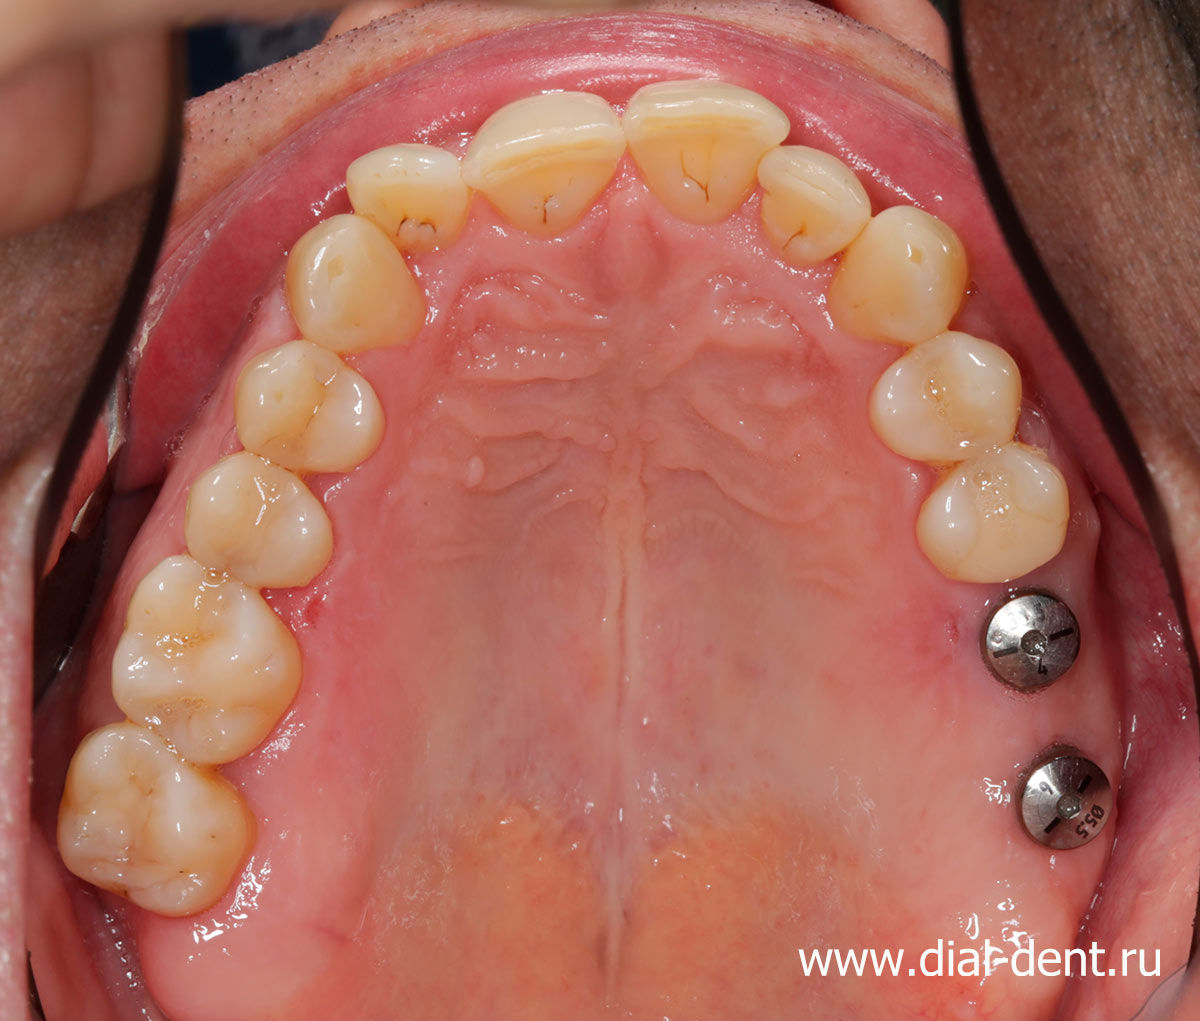ULCI_healthy: (623, 76, 774, 238), (870, 349, 1023, 469)
ULC_healthy: (832, 208, 962, 345)
ULLI_decay: (761, 151, 866, 259)
ULLI_healthy: (917, 462, 1075, 582)
UR1BC_healthy: (235, 346, 389, 474)
UR1M_healthy: (114, 567, 301, 760)
UR2BC_healthy: (189, 460, 339, 584)
UR2M_healthy: (69, 730, 260, 913)
URCI_healthy: (470, 90, 623, 232)
URC_healthy: (293, 217, 430, 356)
URLI_decay: (343, 141, 469, 251)
